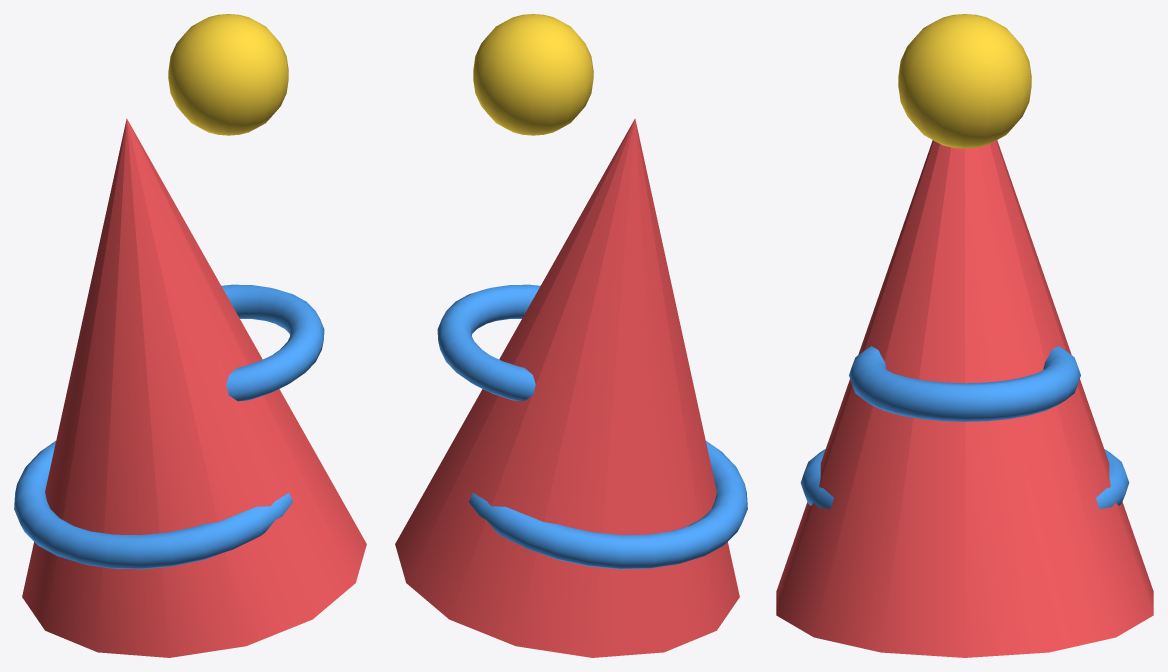
File: head_fun_0.glb
3 renders of one model, left to right at view 1: azimuth 30°, elevation 25°; view 2: azimuth 150°, elevation 25°; view 3: azimuth 270°, elevation 25°, orthographic. The views are drawn at different scales.
Bounding box in the file's own units: 0.4415 × 0.7703 × 0.4192.
